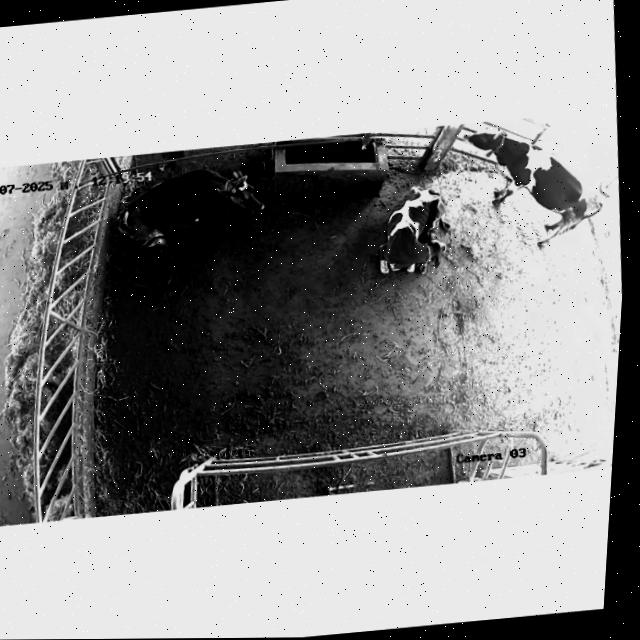stand: (452, 109, 617, 273)
